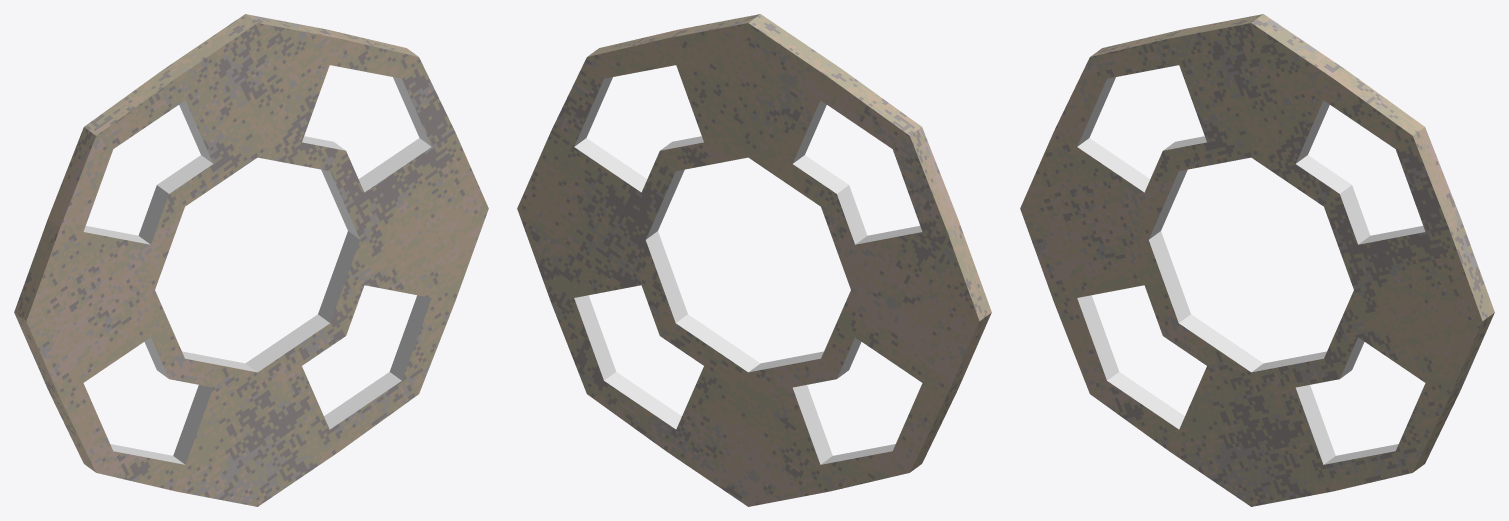
File: WindowFrame.fbx
3 views of the same model, side by side, from view 1: azimuth 30°, elevation 25°; view 2: azimuth 150°, elevation 25°; view 3: azimuth 330°, elevation 25° (orthographic).
Visible parts, largest first — view 1: WindowFrame; view 2: WindowFrame; view 3: WindowFrame.
Boxes of the visible parts, <box> form: WindowFrame: <box>14,14,488,506</box>; WindowFrame: <box>517,14,991,506</box>; WindowFrame: <box>1020,14,1494,506</box>.
Bounding box in the file's own units: 142 × 142 × 6.54.
